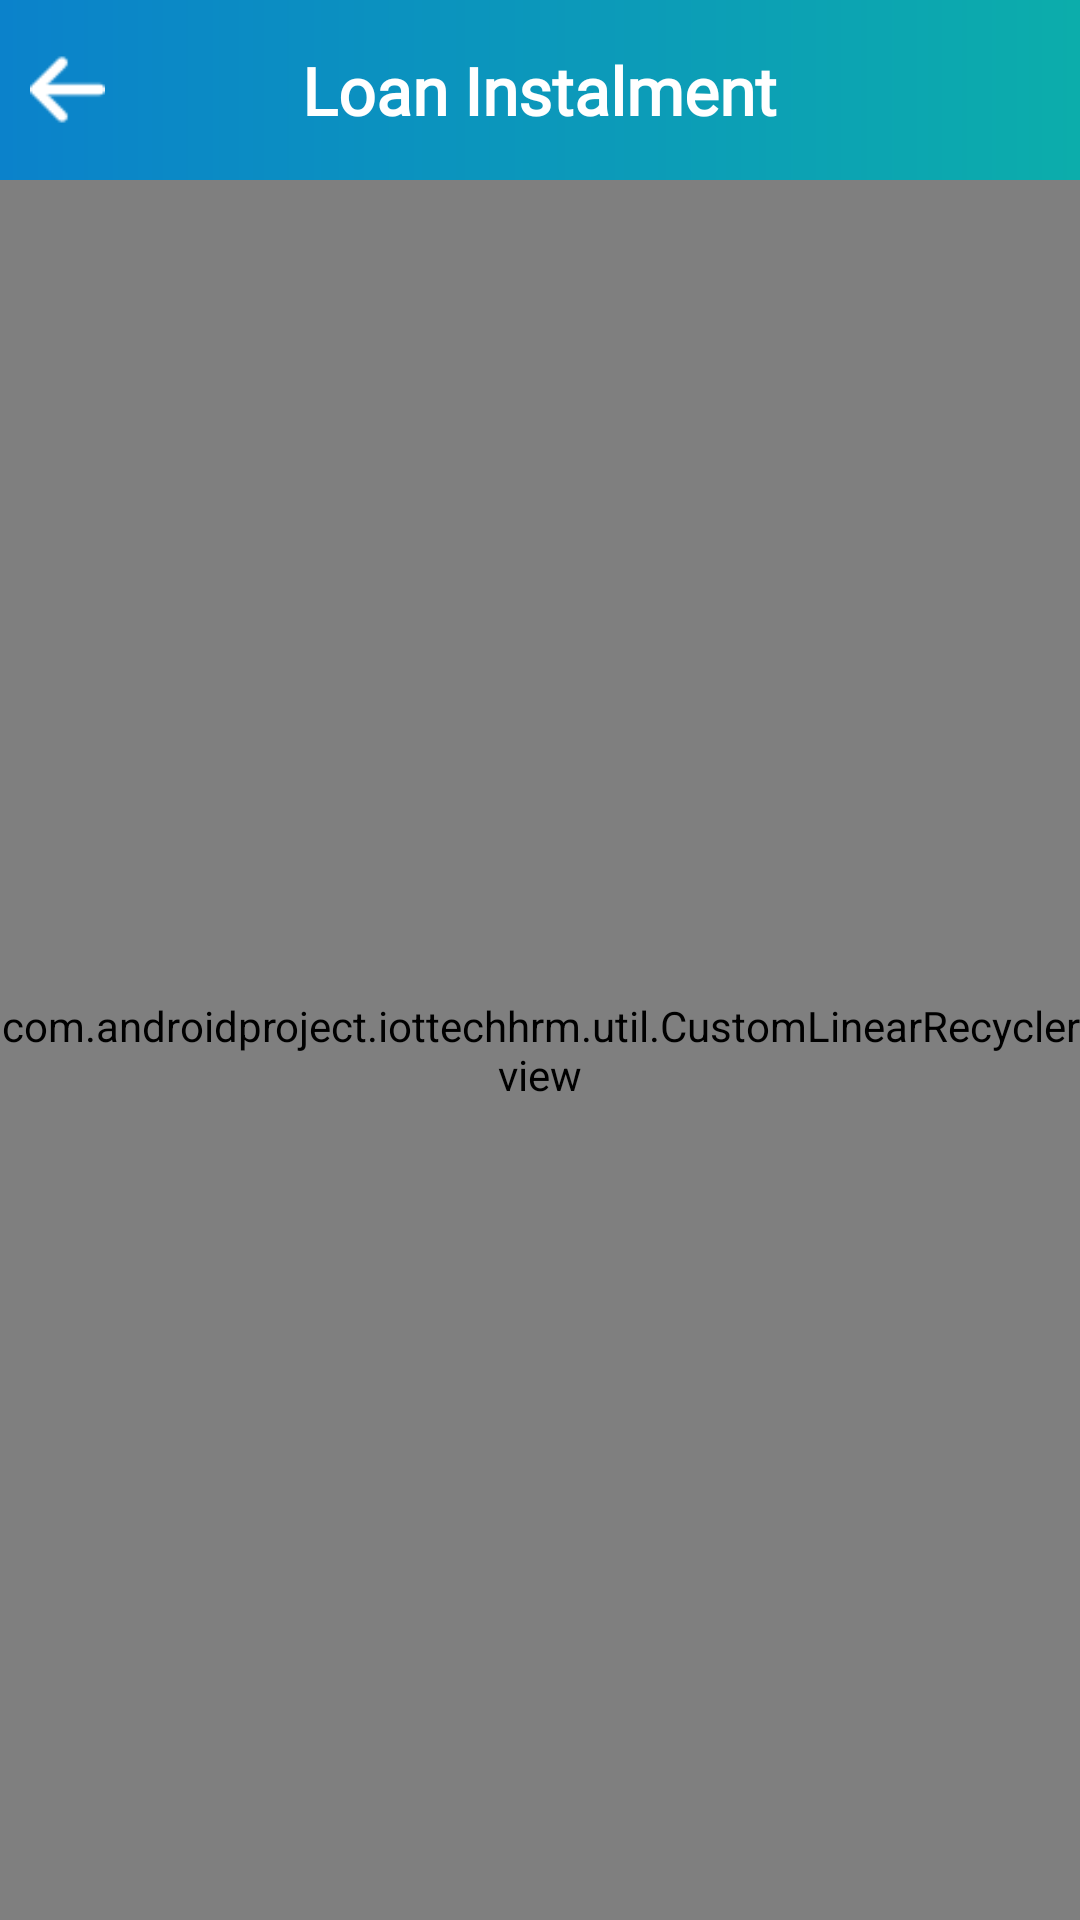

Icon click points for this 1080*1920 phone screenshot, format point (x, y):
back arrow: point (67, 89)
